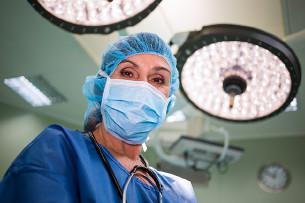OK: (102, 55, 173, 143)
